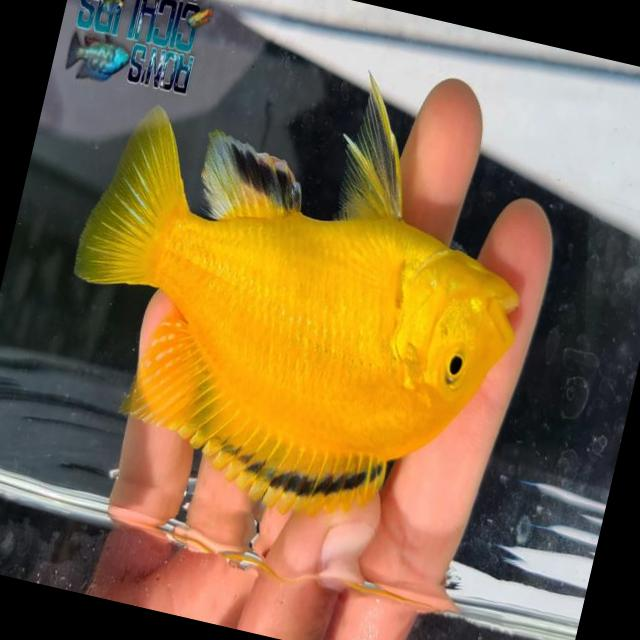YellowCichlid: (10, 100, 552, 556)
